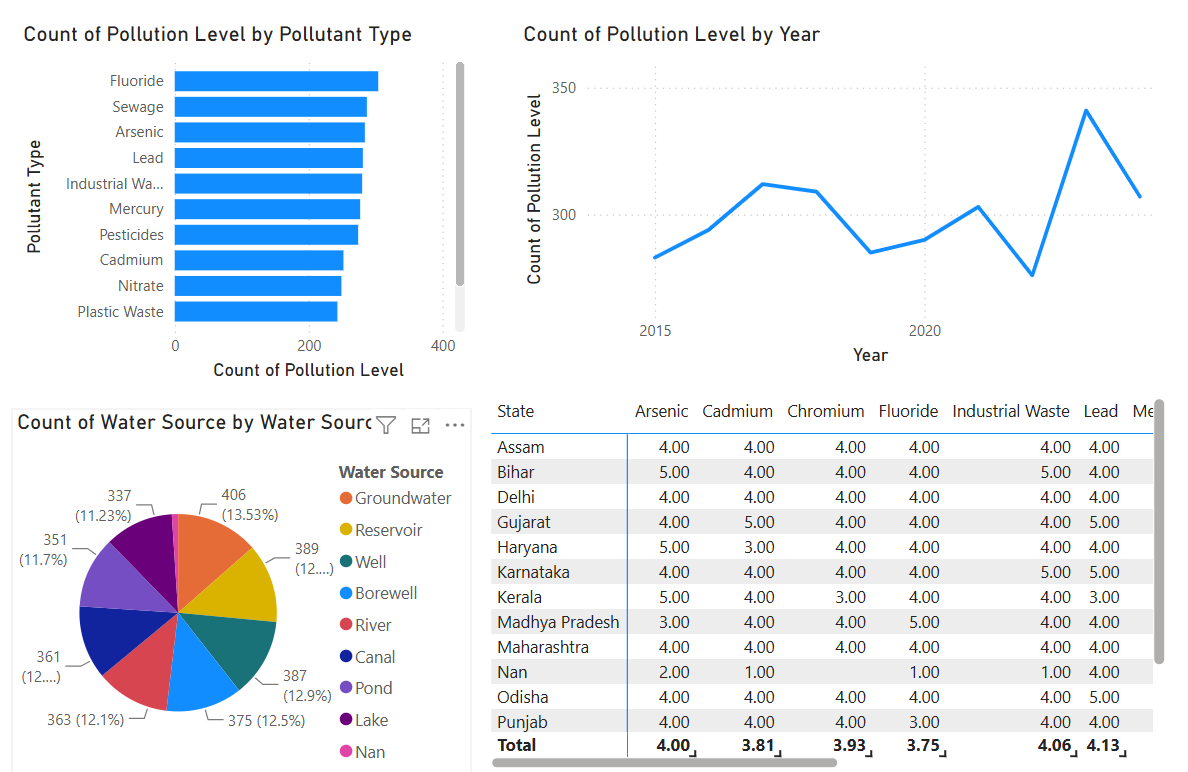

The page's visual inventory and layout, read from the dashboard file:
{"tool":"powerbi","page":{"name":"Page 2","canvas":[1280,720],"ordinal":1},"visuals":[{"type":"barChart","fields":{"Category":["water_pollution_cleaned.Pollutant Type"],"Y":["CountNonNull(water_pollution_cleaned.Pollution Level)"]},"box":[15.5,80,362.7,291.8],"z":0},{"type":"pieChart","fields":{"Category":["water_pollution_cleaned.Water Source"],"Y":["CountNonNull(water_pollution_cleaned.Water Source)"]},"box":[10,390,368.2,308.2],"z":1000},{"type":"lineChart","fields":{"Category":["water_pollution_cleaned.Year"],"Y":["CountNonNull(water_pollution_cleaned.Pollution Level)"]},"box":[415.5,80,515.5,280],"z":2000},{"type":"pivotTable","fields":{"Rows":["water_pollution_cleaned.State"],"Columns":["water_pollution_cleaned.Pollutant Type"],"Values":["select","Count(water_pollution_cleaned.Pollution Level)"]},"box":[389.1,377.3,549.1,305.5],"z":3000},{"type":"textbox","box":[0,8.2,940,71.8],"z":4000},{"type":"textbox","box":[940,377,340,305],"z":5000}]}

Visuals, with their boxes on the page's 1280x720 design canvas (x1, y1, x2, y2). These are canvas units, not pixel positions in the 1188x772 screenshot, which may show the page scaled, cropped or inside an application window:
barChart - water_pollution_cleaned.Pollutant Type x CountNonNull(water_pollution_cleaned.Pollution Level): select_region(16, 80, 378, 372)
pieChart - water_pollution_cleaned.Water Source x CountNonNull(water_pollution_cleaned.Water Source): select_region(10, 390, 378, 698)
lineChart - water_pollution_cleaned.Year x CountNonNull(water_pollution_cleaned.Pollution Level): select_region(416, 80, 931, 360)
pivotTable - water_pollution_cleaned.State x water_pollution_cleaned.Pollutant Type: select_region(389, 377, 938, 683)
textbox: select_region(0, 8, 940, 80)
textbox: select_region(940, 377, 1280, 682)
